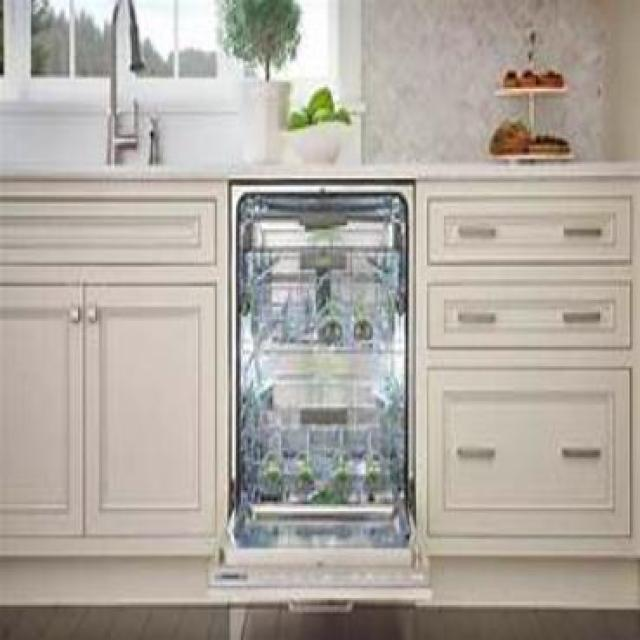dishwasher: (206, 178, 432, 612)
